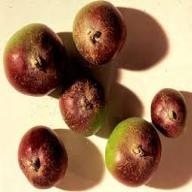apple: (3, 25, 66, 99), (102, 116, 162, 186), (16, 125, 70, 184), (55, 76, 106, 136), (150, 87, 188, 137)
